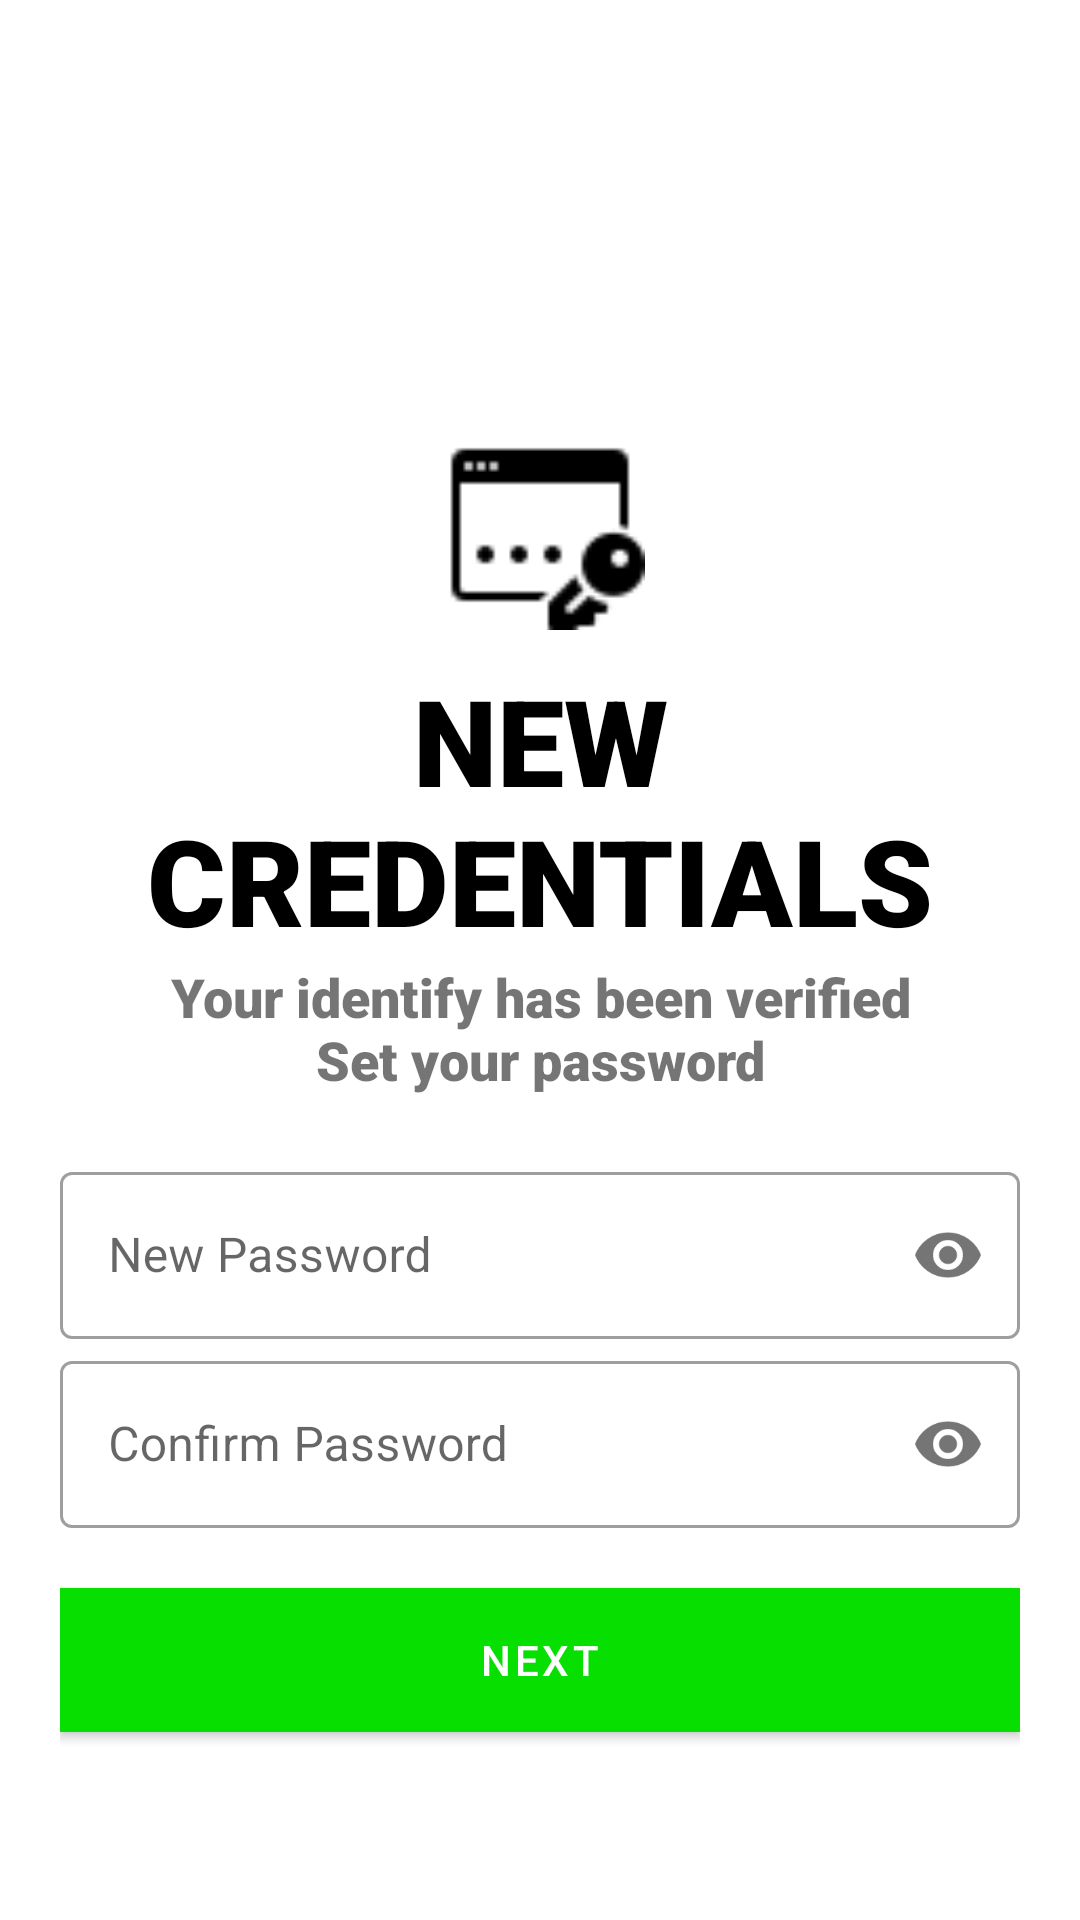

Icons on this 1080×1920 Android screen, each with its box as region(x1, y1, x2, y2):
password window: region(450, 448, 645, 630)
